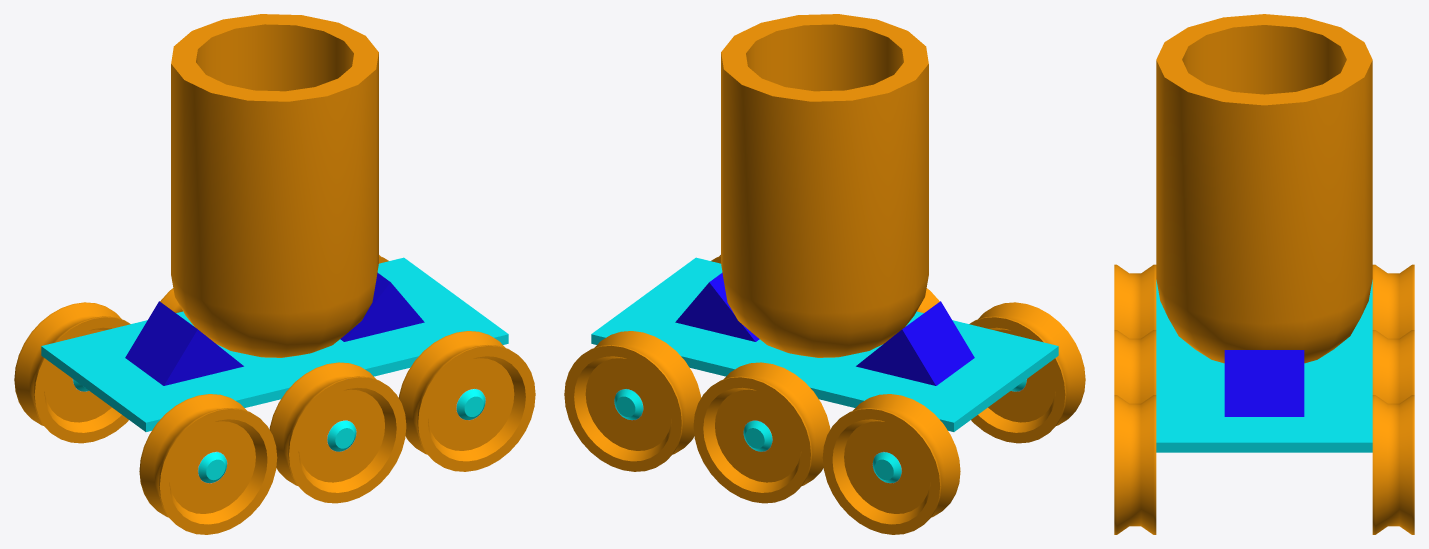
File: Gun04.fbx
The picture shows the model from 3 angles, left to right: view 1: azimuth 30°, elevation 25°; view 2: azimuth 150°, elevation 25°; view 3: azimuth 270°, elevation 25°; orthographic projection. The views are drawn at different scales.
Parts seen in each view (by area): view 1: Cylinder.005, Cylinder.010, Plane.001, Cylinder.009, Cylinder.011, Cylinder.012; view 2: Cylinder.005, Cylinder.010, Plane.001, Cylinder.009, Cylinder.011, Cylinder.012; view 3: Cylinder.005, Plane.001, Cylinder.011, Cylinder.010, Cylinder.009, Cylinder.012.
Part boxes in pixels (box(x1,y1,x2,y2)): Cylinder.005: box(171, 14, 378, 357); Cylinder.010: box(14, 302, 277, 534); Plane.001: box(41, 257, 508, 431); Cylinder.009: box(160, 288, 406, 503); Cylinder.011: box(379, 255, 535, 471); Cylinder.012: box(125, 272, 424, 385); Cylinder.005: box(721, 14, 928, 357); Cylinder.010: box(822, 302, 1085, 534); Plane.001: box(591, 257, 1058, 431); Cylinder.009: box(693, 288, 939, 503); Cylinder.011: box(564, 255, 720, 471); Cylinder.012: box(675, 272, 974, 385); Cylinder.005: box(1156, 14, 1372, 363); Plane.001: box(1156, 280, 1372, 452); Cylinder.011: box(1114, 395, 1414, 534); Cylinder.010: box(1114, 264, 1414, 338); Cylinder.009: box(1114, 330, 1414, 403); Cylinder.012: box(1224, 350, 1304, 416).
Bounding box in the file's own units: 414 × 412 × 278.
Materials: 1 (1 with a texture image).
